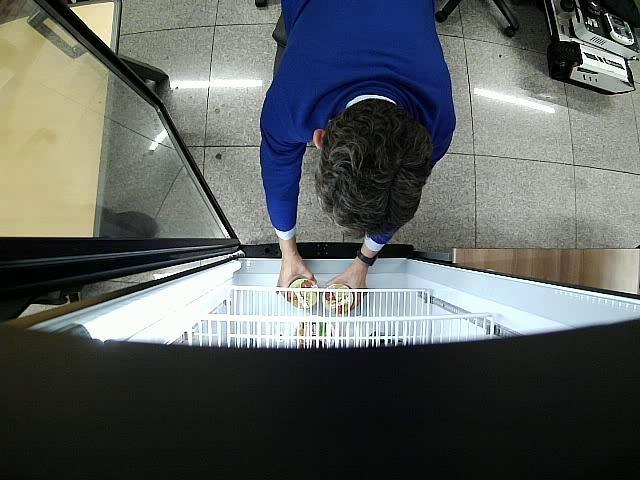04_chapagetti_S: (287, 278, 317, 310), (322, 283, 355, 311)
